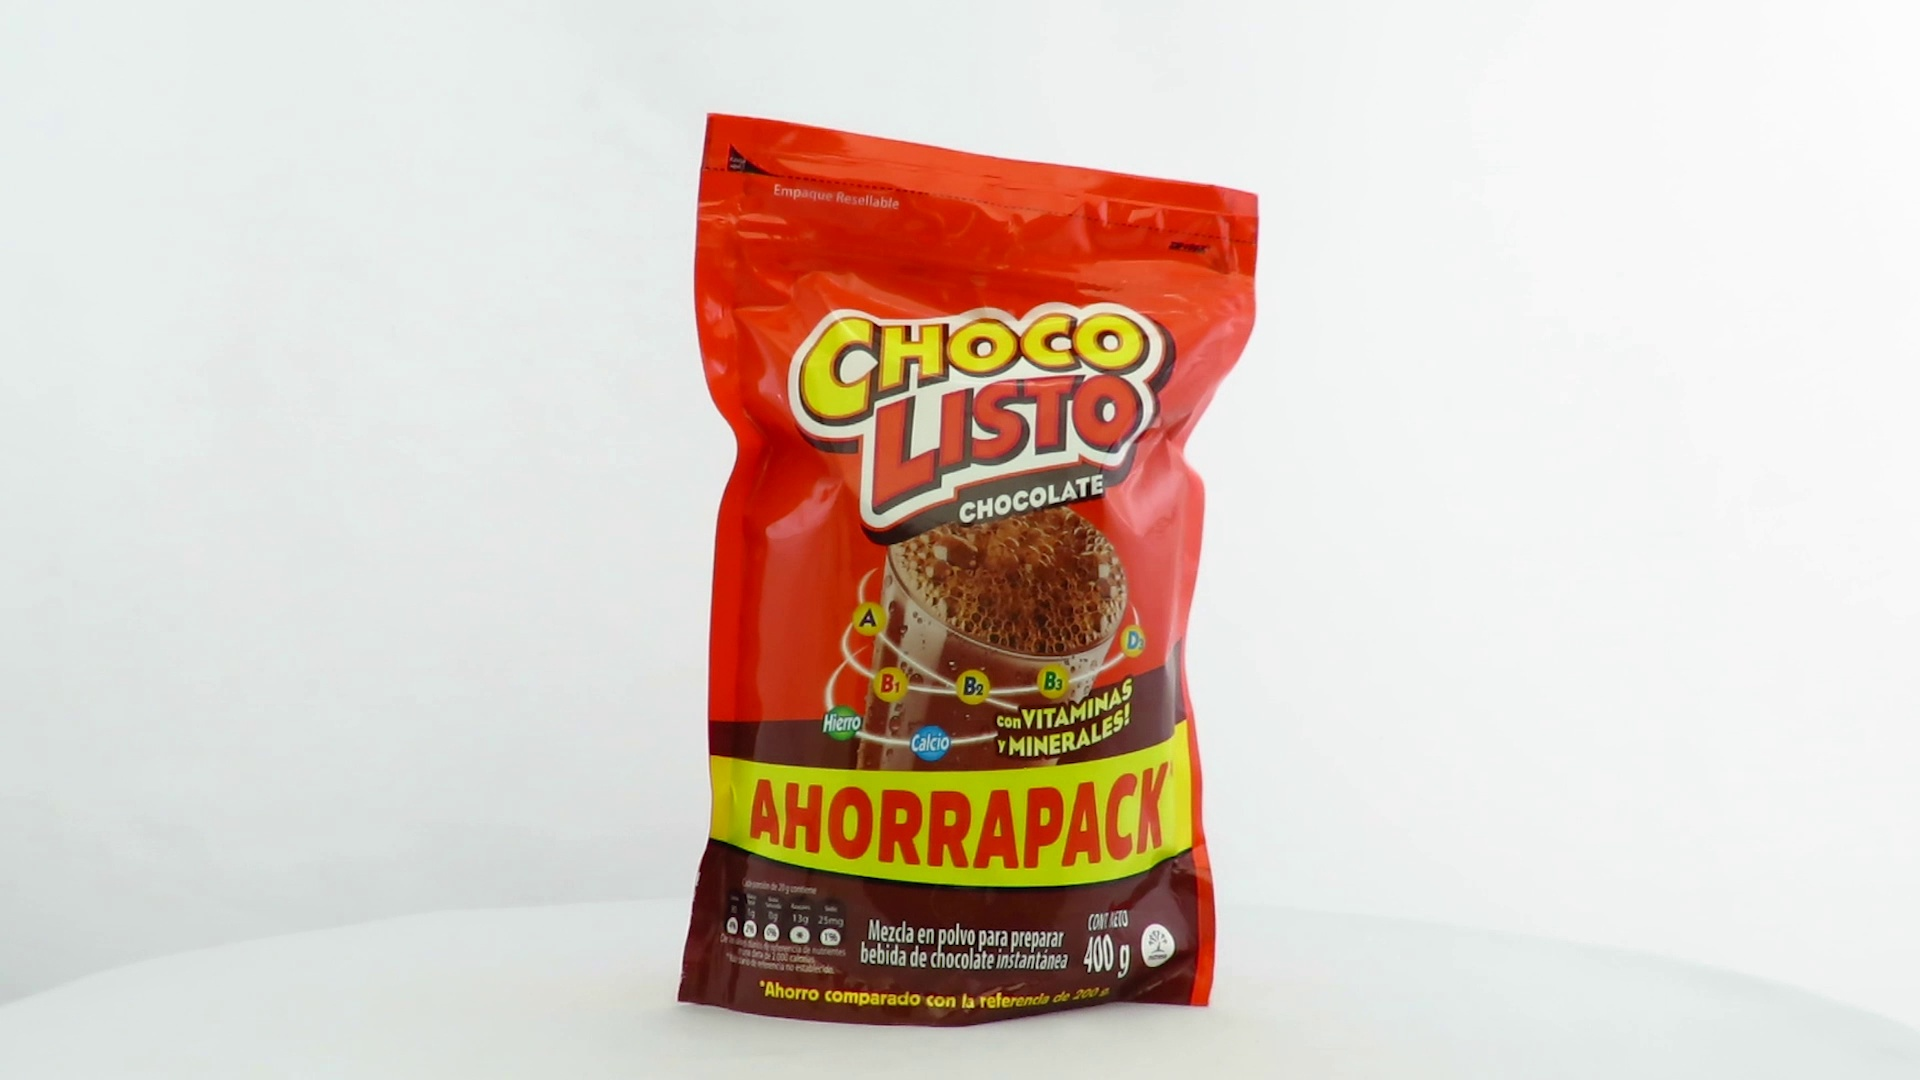COL0170103DYP40000: (673, 108, 1265, 1034)
